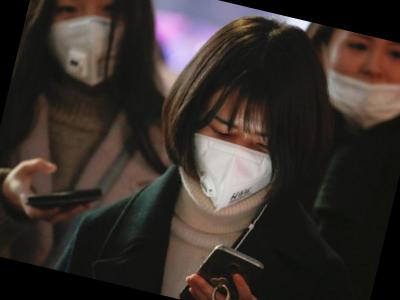mask_weared_incorrect: (309, 29, 400, 138)
with_mask: (176, 99, 292, 222)
